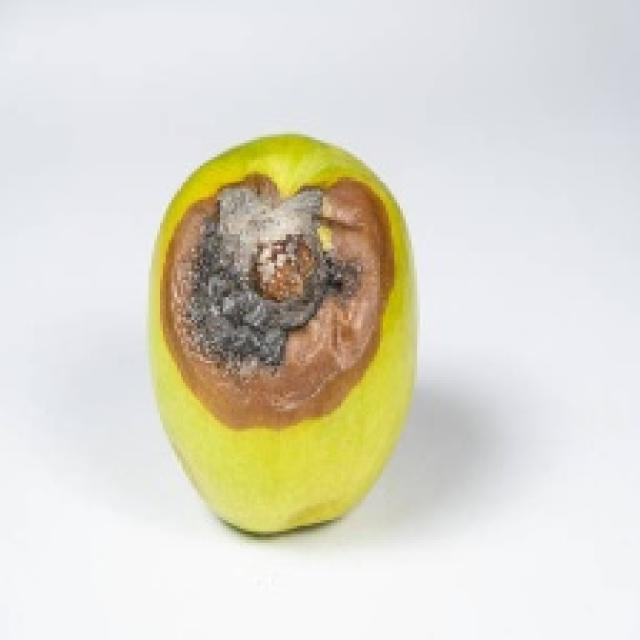rotten_apple: (158, 140, 414, 520)
